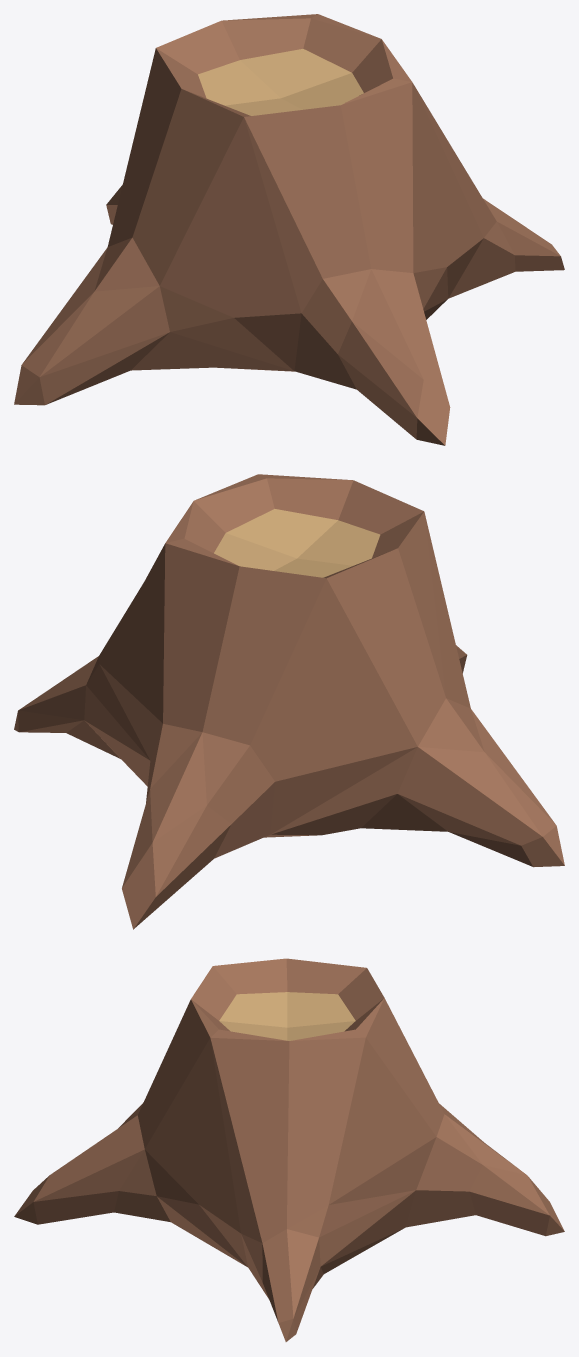
File: trunk3.fbx
3 renders of one model, top to bottom at view 1: azimuth 30°, elevation 25°; view 2: azimuth 150°, elevation 25°; view 3: azimuth 270°, elevation 25°, orthographic. The views are drawn at different scales.
Visible parts, largest first — view 1: trunk3; view 2: trunk3; view 3: trunk3.
Boxes of the visible parts, x1=… form: trunk3: x1=14, y1=14, x2=564, y2=445; trunk3: x1=14, y1=474, x2=564, y2=929; trunk3: x1=14, y1=958, x2=564, y2=1341.
Size of the model in its own units: 81.66 by 40.05 by 85.14.
